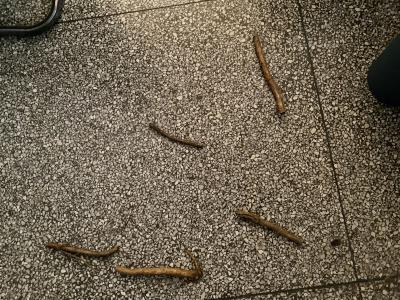Root: (115, 250, 201, 280), (253, 35, 285, 113), (236, 210, 302, 245), (149, 123, 203, 148), (46, 243, 119, 257)
